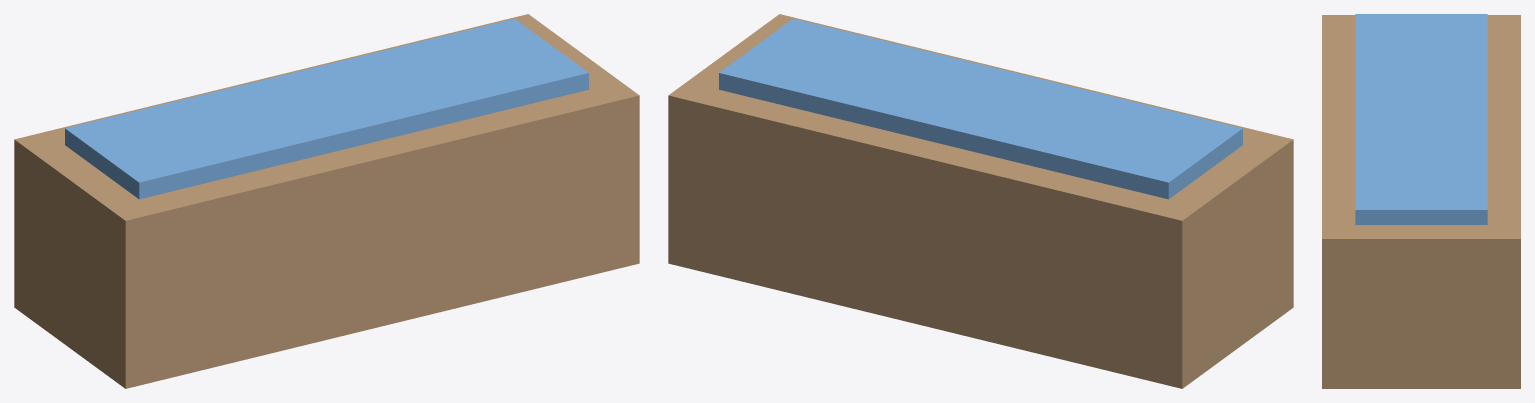
Rendered from Prop_DS_Trough.glb.
3 views of the same model, side by side, from view 1: azimuth 30°, elevation 25°; view 2: azimuth 150°, elevation 25°; view 3: azimuth 270°, elevation 25° (orthographic). The views are drawn at different scales.
Parts seen in each view (by area): view 1: Cube, Cube.001; view 2: Cube, Cube.001; view 3: Cube, Cube.001.
Part boxes in pixels (bbox=[...]): Cube: bbox=[14, 14, 639, 388]; Cube.001: bbox=[65, 18, 588, 199]; Cube: bbox=[668, 14, 1293, 388]; Cube.001: bbox=[719, 18, 1242, 199]; Cube: bbox=[1322, 15, 1520, 388]; Cube.001: bbox=[1355, 14, 1487, 224].
Bounding box in the file's own units: 1.6 × 0.55 × 0.6.
